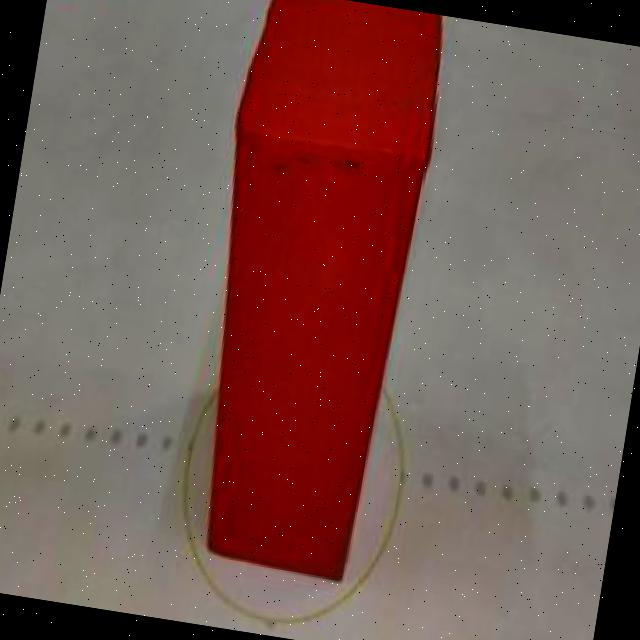redbox: (167, 0, 453, 583)
